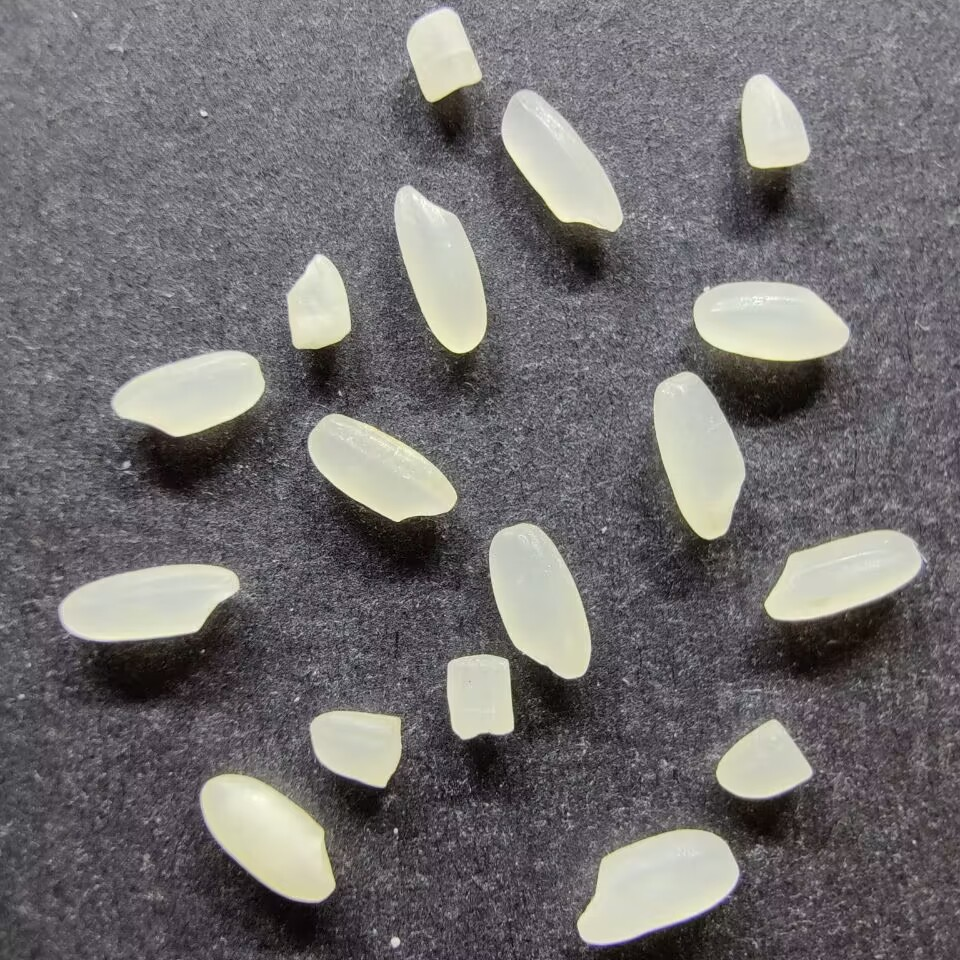broken: (714, 717, 816, 801), (308, 707, 404, 790), (403, 7, 482, 103), (737, 72, 814, 170), (285, 250, 352, 352), (445, 654, 516, 742)
rice: (574, 827, 740, 947), (197, 772, 338, 906), (499, 88, 626, 233), (386, 182, 490, 354), (486, 521, 594, 680), (305, 412, 458, 523), (651, 370, 747, 541), (763, 528, 924, 623), (56, 563, 241, 643), (111, 346, 265, 438), (691, 279, 851, 362)
